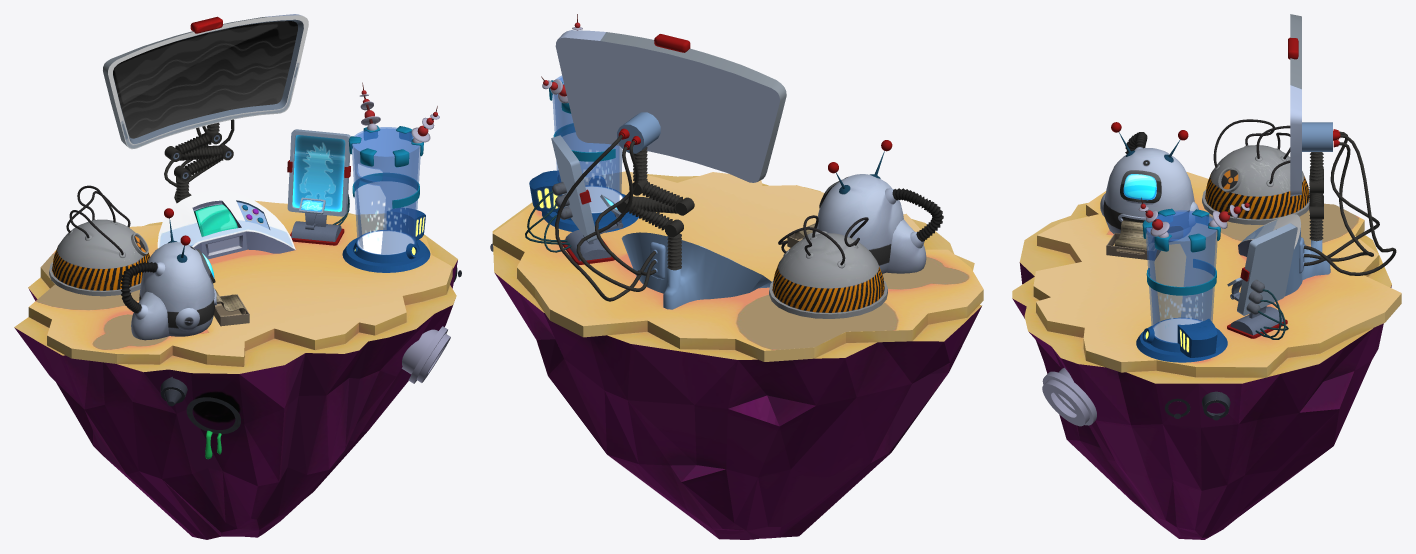
The model's file is cyberpunk-bar-2.glb.
3 views of the same model, side by side, from view 1: azimuth 30°, elevation 25°; view 2: azimuth 150°, elevation 25°; view 3: azimuth 270°, elevation 25° (orthographic). The views are drawn at different scales.
Visible parts, largest first — view 1: Object_20.003, Object_13.002, Object_6.002, Object_23.002, Object_25.002, Object_18.002, Object_14.002, Object_16.002, Object_7.002, Object_21.002, Object_22.002; view 2: Object_20.003, Object_13.002, Object_6.002, Object_14.002, Object_23.002, Object_16.002, Object_25.002, Object_18.002; view 3: Object_20.003, Object_6.002, Object_13.002, Object_23.002, Object_14.002, Object_18.002, Object_25.002, Object_16.002, Object_7.002, Object_21.002, Object_22.002.
Boxes of the visible parts, x1,y1,x2,y2 form: Object_20.003: (14,213,457,539); Object_13.002: (103,14,308,259); Object_6.002: (29,200,452,356); Object_23.002: (120,208,245,340); Object_25.002: (342,82,439,272); Object_18.002: (351,127,420,254); Object_14.002: (49,185,149,296); Object_16.002: (287,129,350,245); Object_7.002: (402,326,450,383); Object_21.002: (186,267,461,433); Object_22.002: (214,294,249,326); Object_20.003: (492,174,983,539); Object_13.002: (555,30,786,309); Object_6.002: (492,171,983,350); Object_14.002: (769,215,887,318); Object_23.002: (795,140,943,273); Object_16.002: (525,135,623,264); Object_25.002: (529,14,638,232); Object_18.002: (552,75,622,212); Object_20.003: (1012,203,1401,539); Object_6.002: (1033,172,1401,367); Object_13.002: (1238,14,1396,296); Object_23.002: (1100,122,1198,251); Object_14.002: (1202,119,1309,224); Object_18.002: (1145,210,1217,343); Object_25.002: (1136,197,1253,362); Object_16.002: (1227,223,1297,339); Object_7.002: (1042,367,1096,426); Object_21.002: (1164,391,1230,420); Object_22.002: (1106,233,1160,260).
Size of the model in its own units: 1.62 by 1.77 by 1.26.
Materials: 13 (9 with a texture image).
